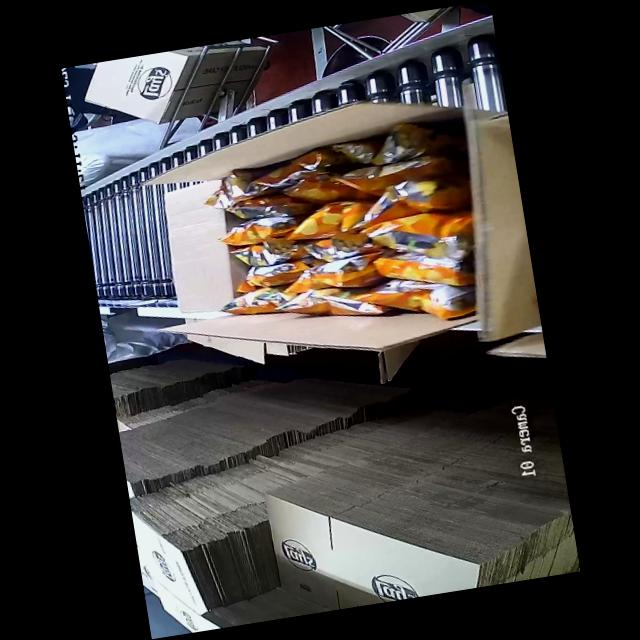cheese: (218, 128, 473, 358)
